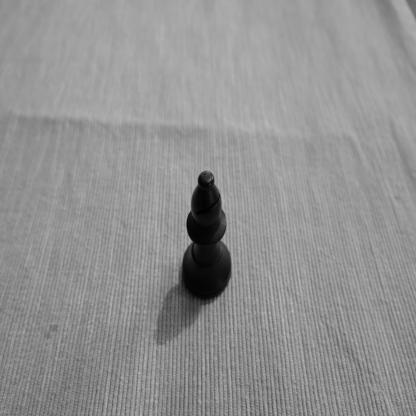black-bishop: (182, 169, 233, 300)
